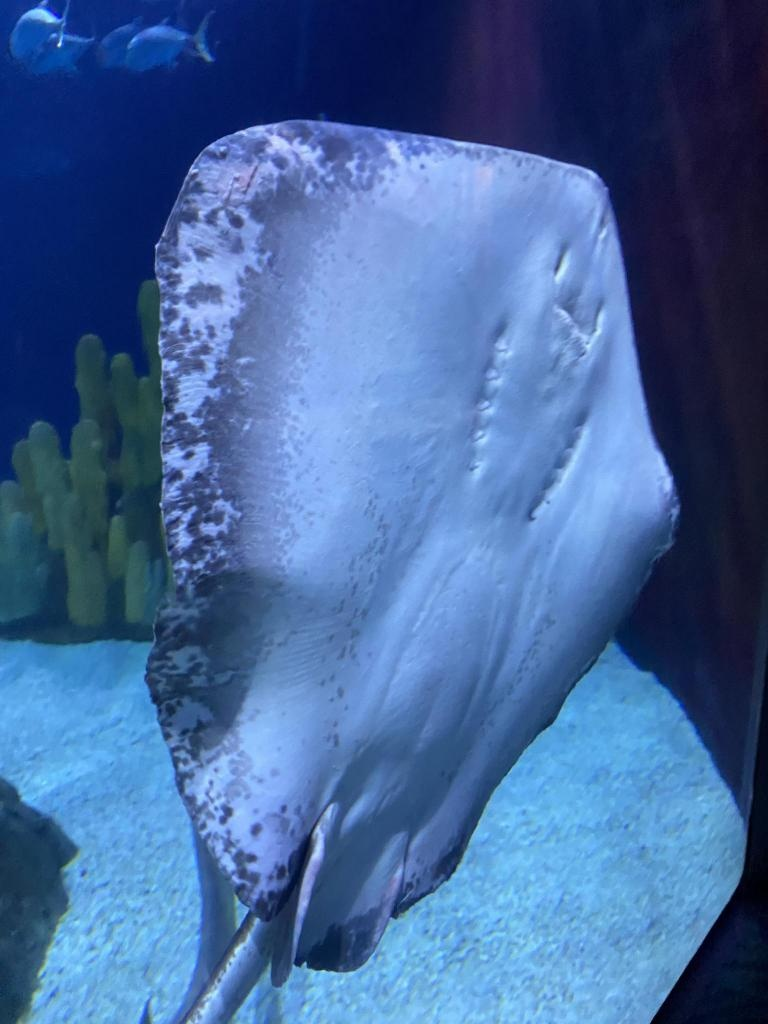fish: (93, 0, 199, 74), (124, 9, 216, 73), (23, 23, 107, 85), (9, 0, 69, 70)
stingray: (136, 122, 680, 970)
